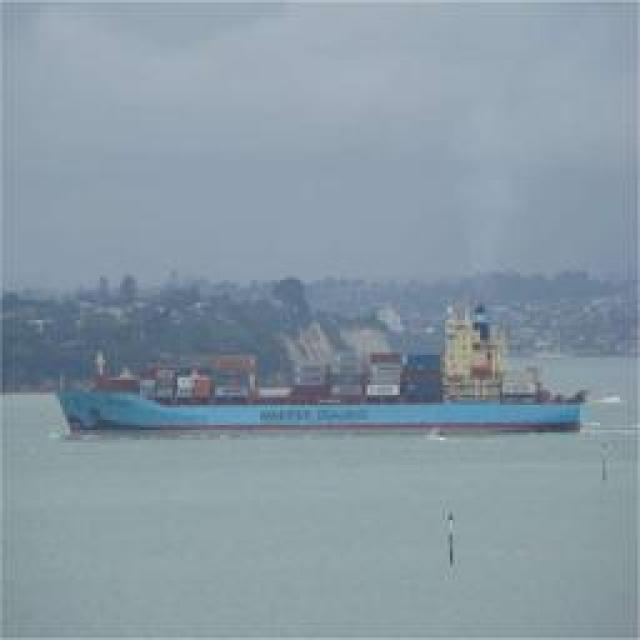CIV_Ship: (51, 351, 599, 434)
